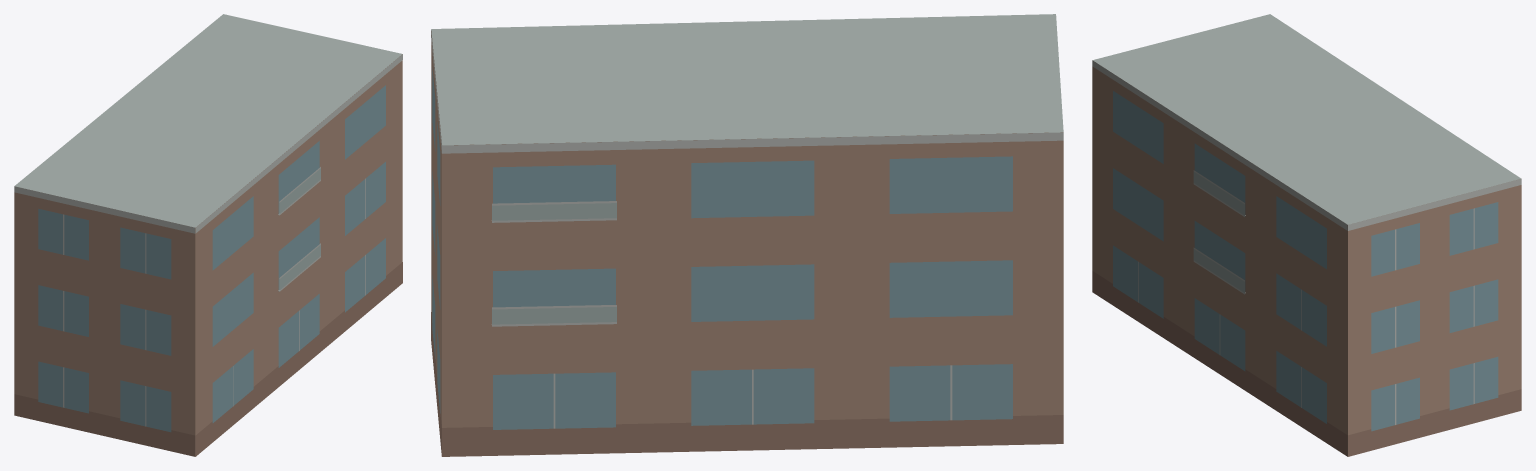
The model's file is survey-upis-32983418.glb.
3 views of the same model, side by side, from view 1: azimuth 30°, elevation 25°; view 2: azimuth 150°, elevation 25°; view 3: azimuth 270°, elevation 25° (orthographic). The views are drawn at different scales.
Parts seen in each view (by area): view 1: survey-upis-32983418.tmp; view 2: survey-upis-32983418.tmp; view 3: survey-upis-32983418.tmp.
Boxes of the visible parts, x1=… form: survey-upis-32983418.tmp: x1=14, y1=14, x2=402, y2=456; survey-upis-32983418.tmp: x1=431, y1=14, x2=1063, y2=456; survey-upis-32983418.tmp: x1=1092, y1=14, x2=1521, y2=456.
Bounding box in the file's own units: 17.84 × 9.15 × 15.35.
